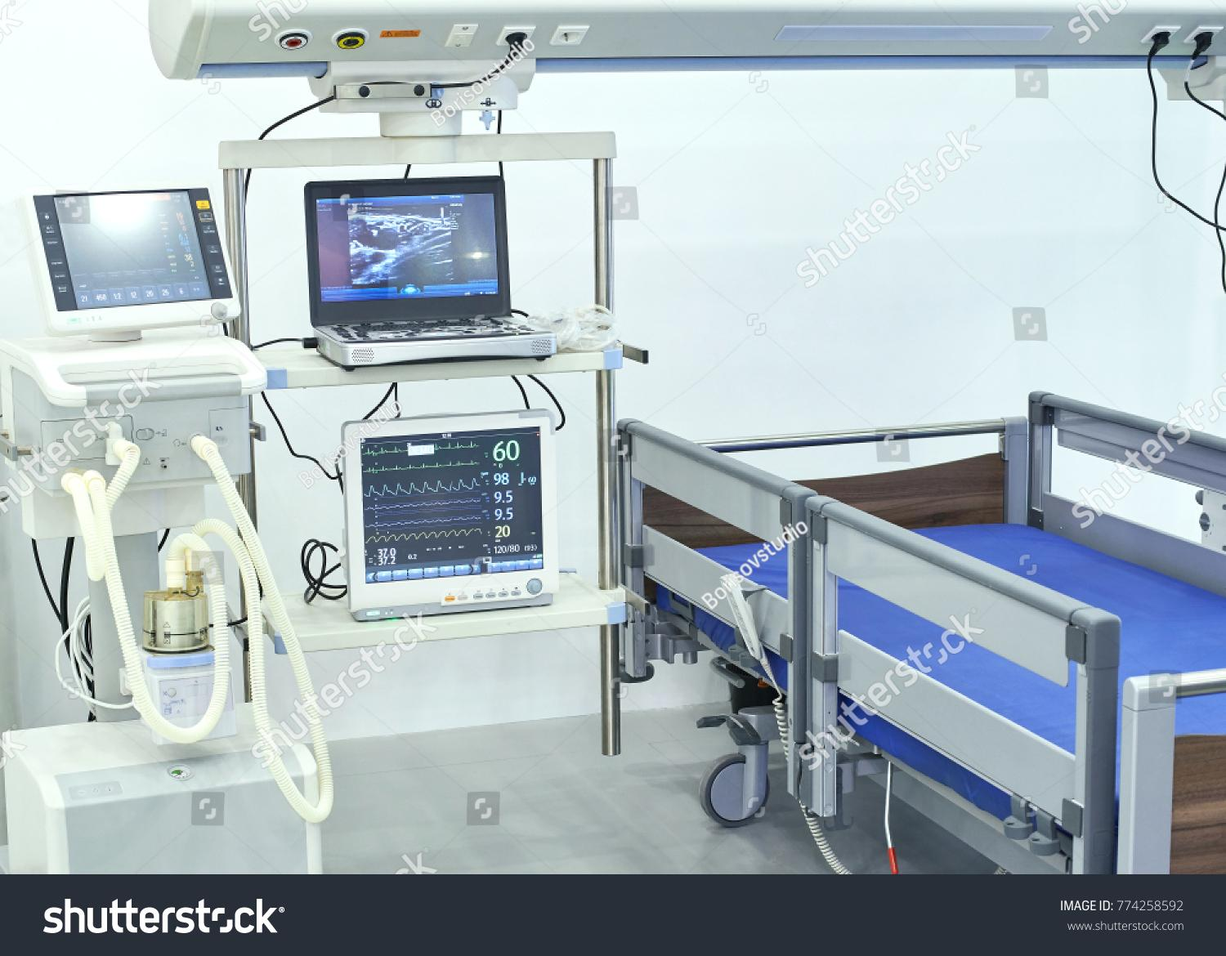Monitor: (333, 399, 564, 645), (3, 159, 248, 342), (298, 181, 523, 351)
bed: (629, 376, 1224, 868)
